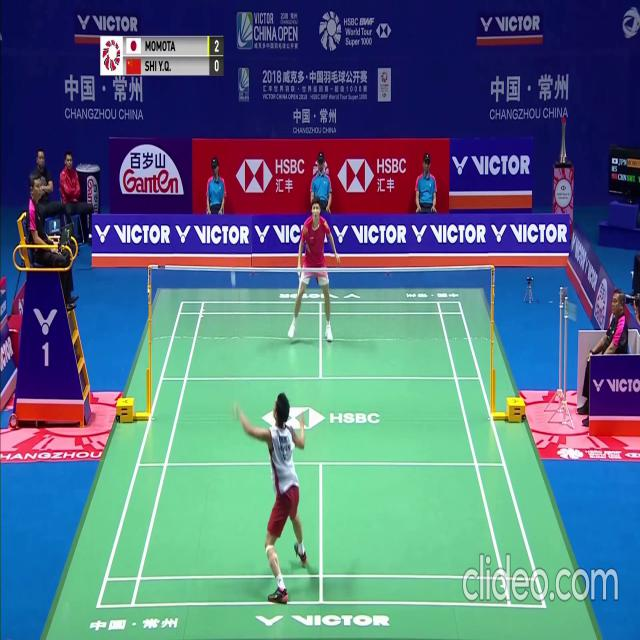Shuttlecock: (230, 272, 235, 279)
